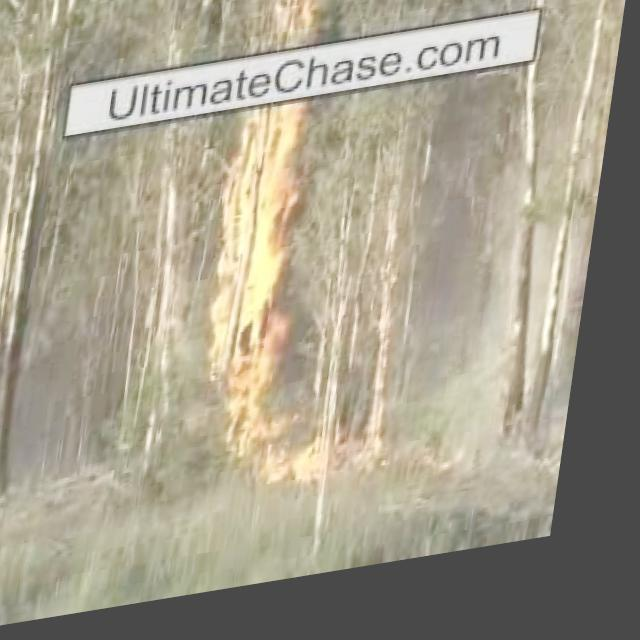Fire: (162, 0, 436, 548)
